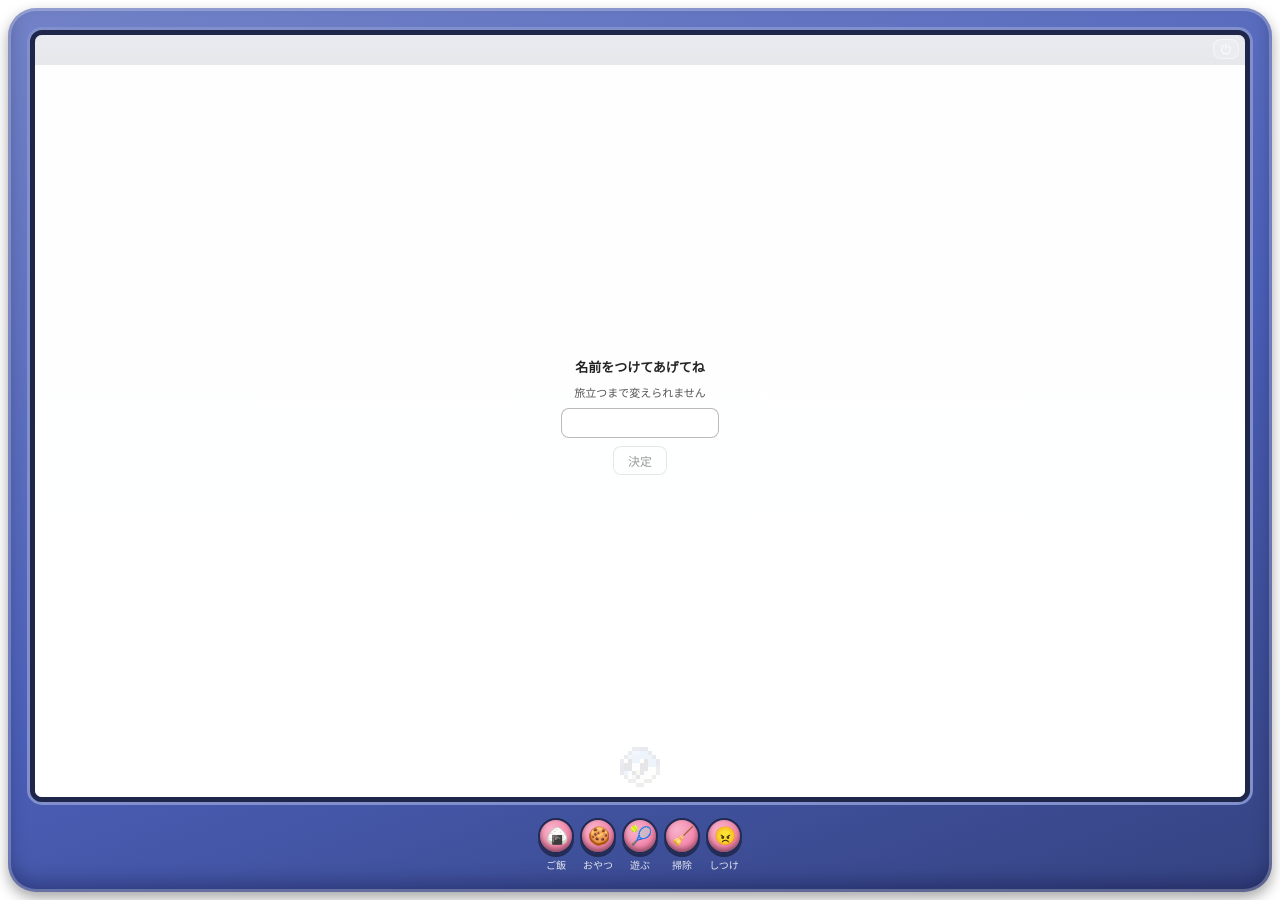
App › naming › sends the typed name and shows it afterwards
Type "ごま" into the field named "名前".
click(640, 423); type("ごま")  # box [561,408,719,438]
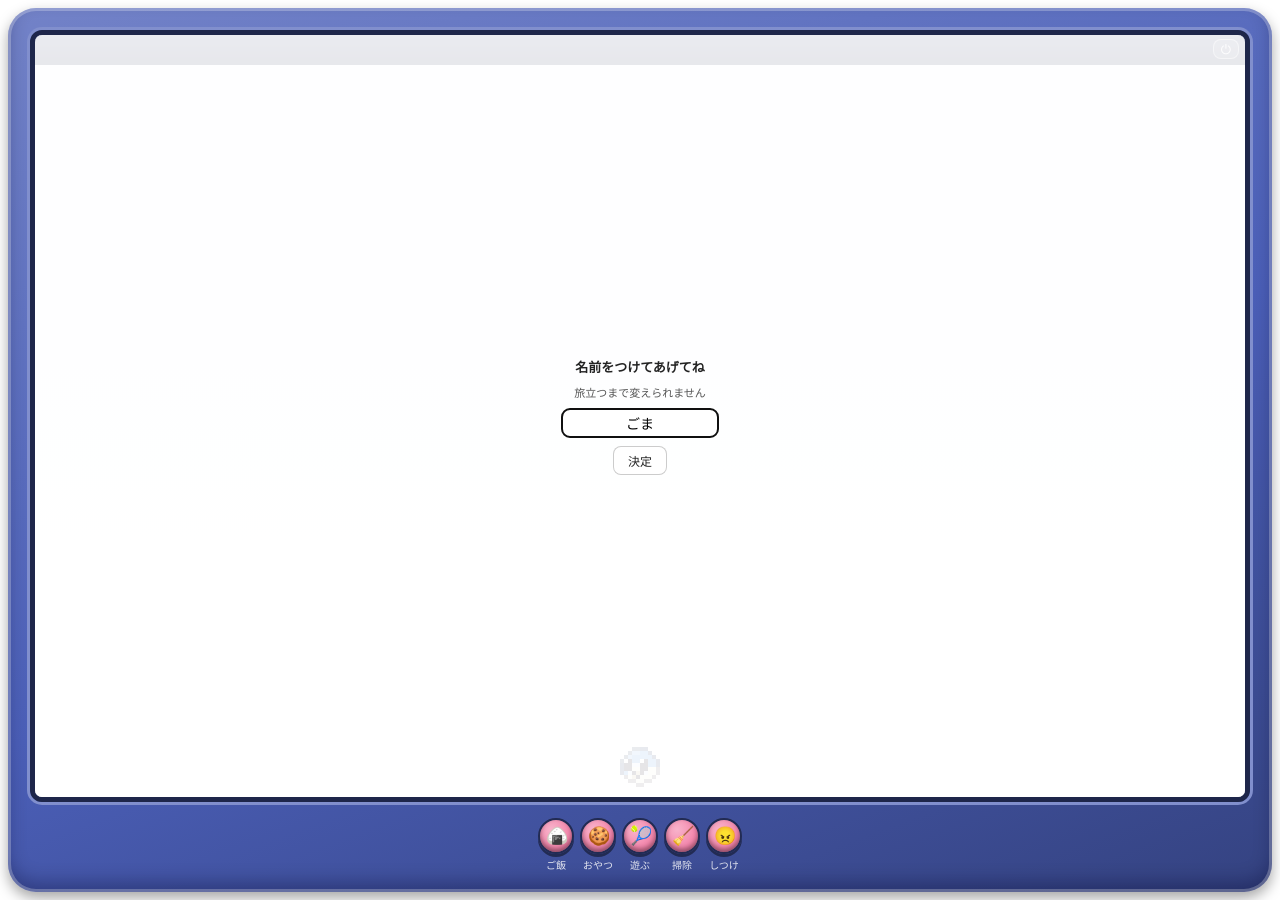
Click the button "決定".
click(640, 460)  # box [613,446,667,475]
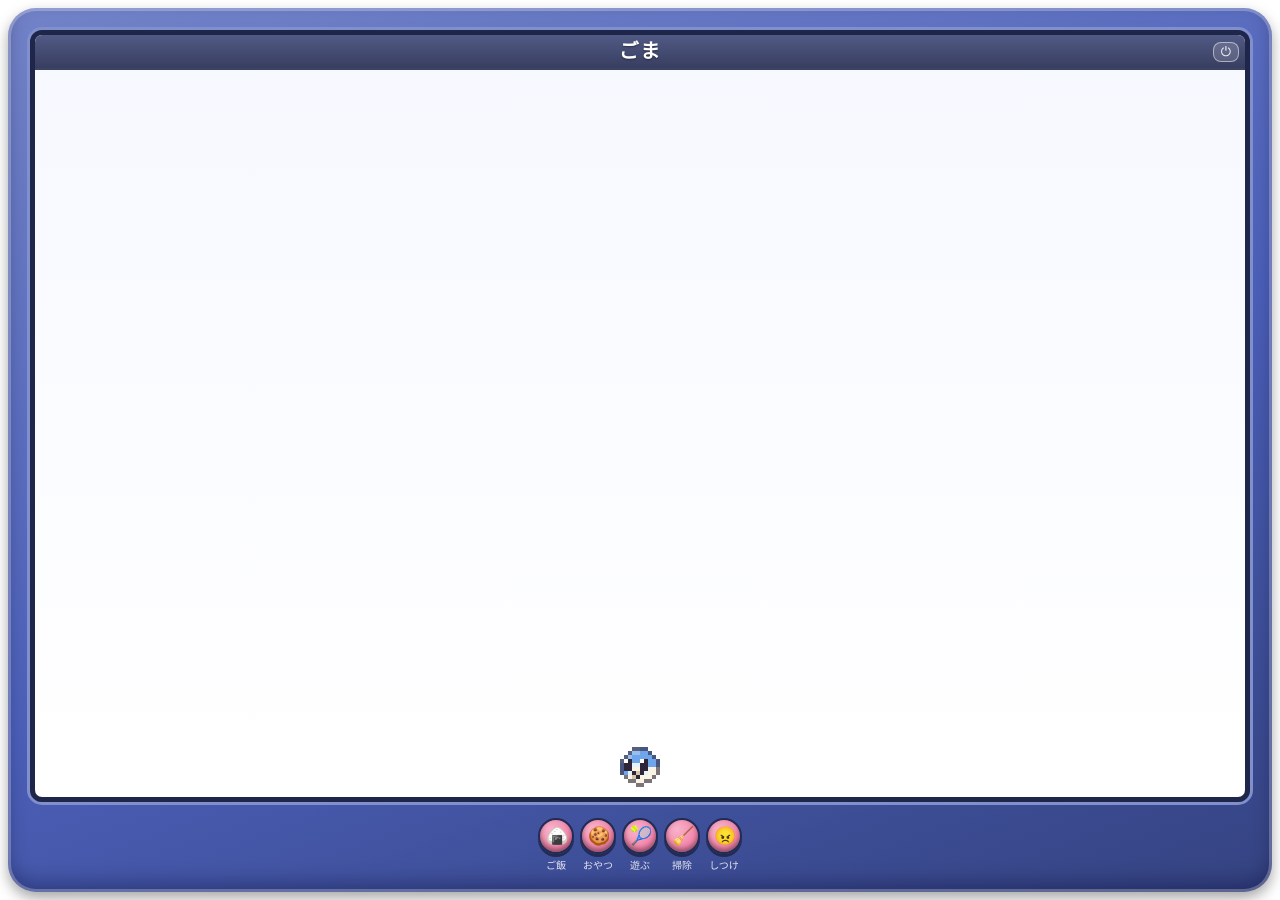
Check: the text "ごま" is shown, box [619,38,661,64]
Check: the text "名前" is gone
